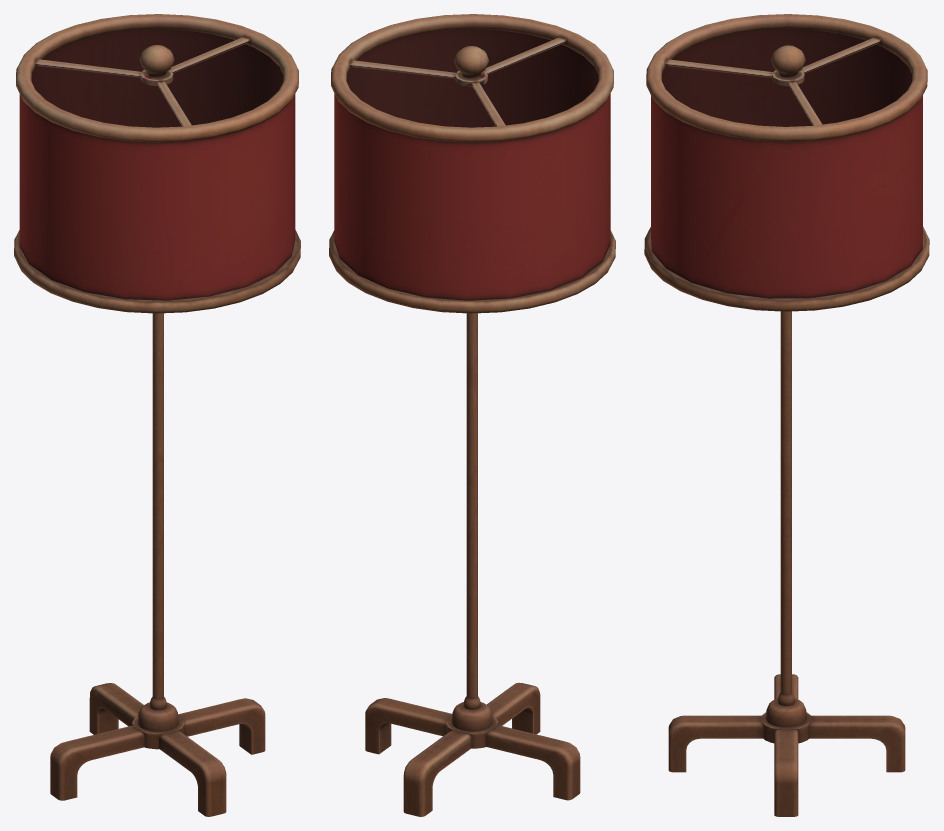
File: SM_LampTall_02.fbx
The picture shows the model from 3 angles, left to right: view 1: azimuth 30°, elevation 25°; view 2: azimuth 150°, elevation 25°; view 3: azimuth 270°, elevation 25°; orthographic projection.
Parts seen in each view (by area): view 1: SM_LampTall_02_LOD0; view 2: SM_LampTall_02_LOD0; view 3: SM_LampTall_02_LOD0.
Part boxes in pixels (bbox=[...]): SM_LampTall_02_LOD0: bbox=[14, 14, 300, 816]; SM_LampTall_02_LOD0: bbox=[329, 14, 615, 816]; SM_LampTall_02_LOD0: bbox=[644, 14, 929, 816].
Size of the model in its own units: 58.24 by 57.98 by 162.
Materials: 1 (1 with a texture image).
